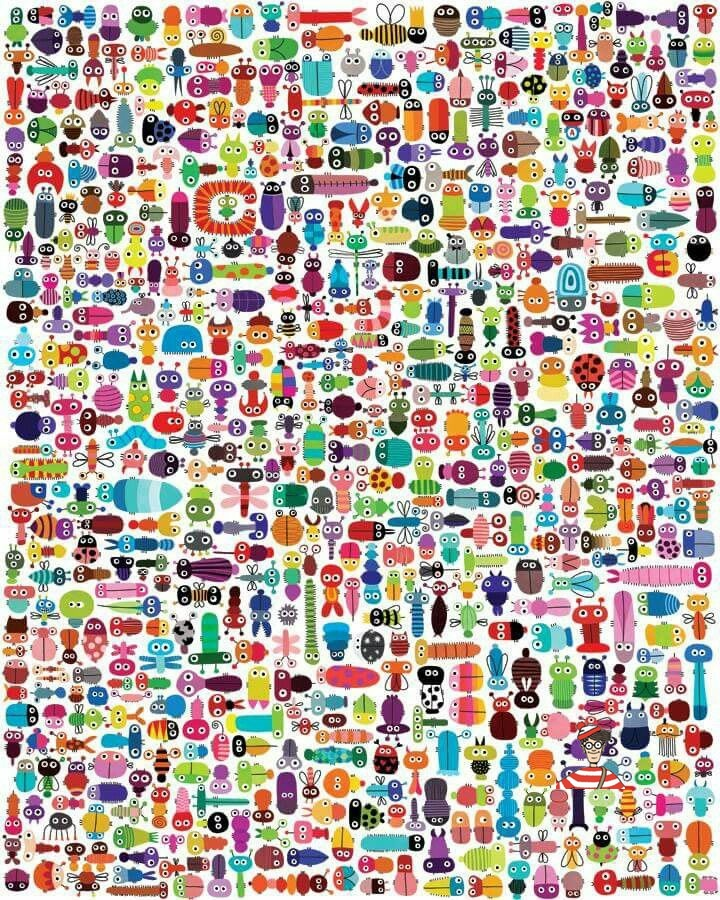waldo: (556, 720, 625, 789)
